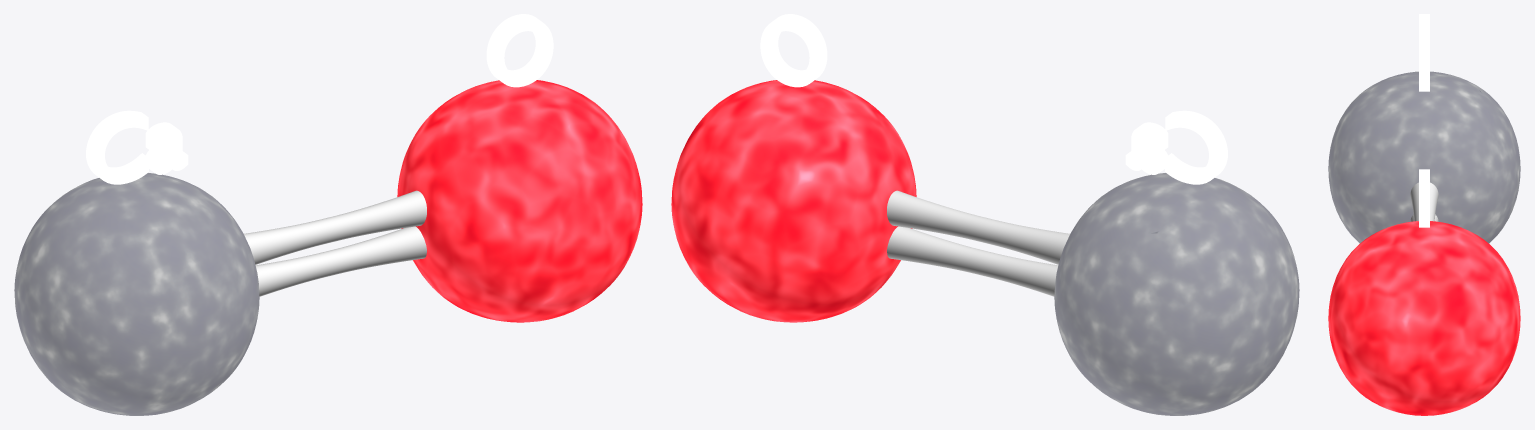
Rendered from CaO.glb.
3 views of the same model, side by side, from view 1: azimuth 30°, elevation 25°; view 2: azimuth 150°, elevation 25°; view 3: azimuth 270°, elevation 25° (orthographic). The views are drawn at different scales.
Visible parts, largest first — view 1: Text.003; view 2: Text.003; view 3: Text.003.
Part boxes in pixels (x1,y1,x2,y2): Text.003: (14,14,642,415); Text.003: (671,14,1299,415); Text.003: (1328,14,1520,415).
Size of the model in its own units: 7.1 by 3.35 by 2.5.
4 materials, 2 textured.
